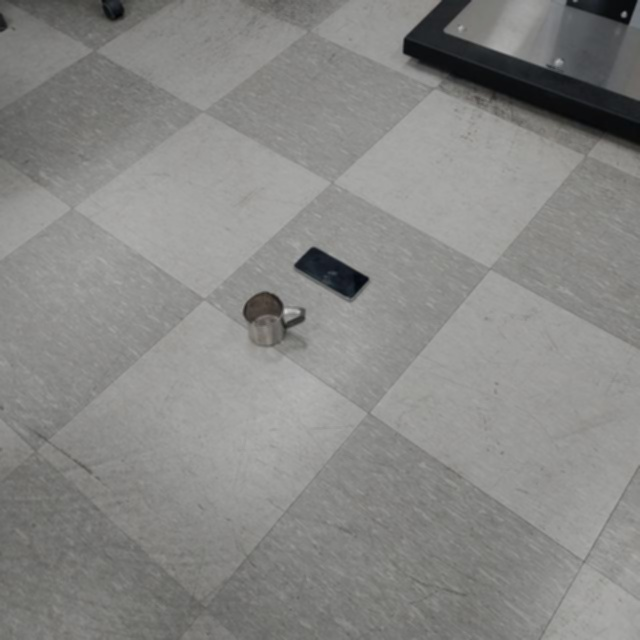cup: (241, 288, 306, 348)
phone: (293, 245, 374, 301)
